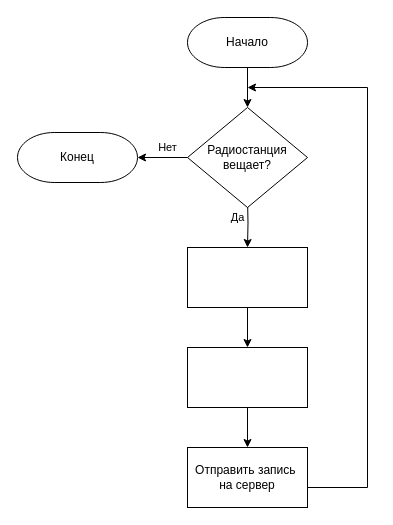
This 393x525 diagram has some shape labels left out. The shapes that lost their labels are listed below. From the top down, each one's centre as x and y in pixels, then its label:
At [247,277]: "Начать запись".
At [247,377]: "Закончить запись".
